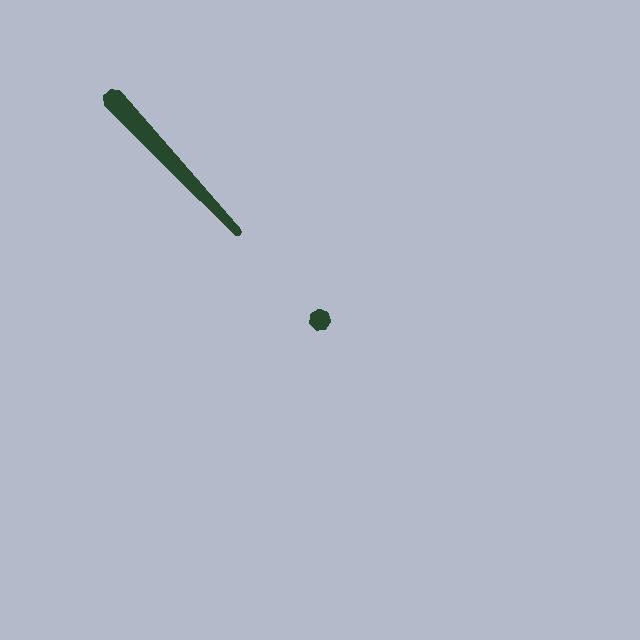Poste: (306, 306, 336, 333)
